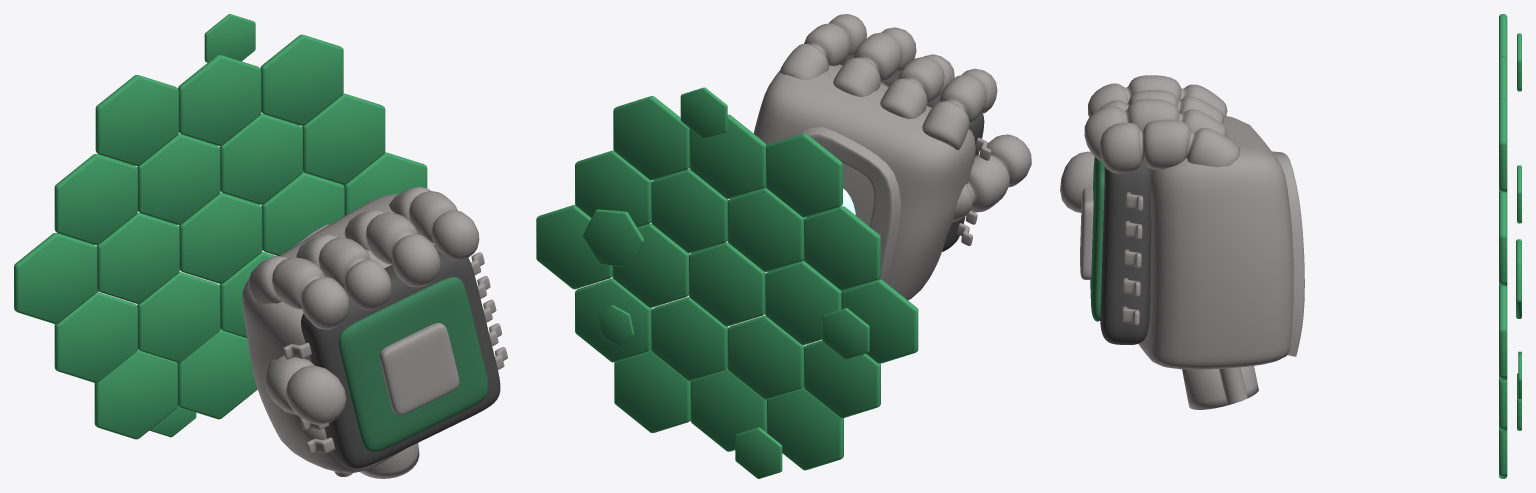
The picture shows the model from 3 angles, left to right: view 1: azimuth 30°, elevation 25°; view 2: azimuth 150°, elevation 25°; view 3: azimuth 270°, elevation 25°; orthographic projection. The views are drawn at different scales.
Visible parts, largest first — view 1: AI-robot-hand-hold-chip-col; view 2: AI-robot-hand-hold-chip-col; view 3: AI-robot-hand-hold-chip-col.
Boxes of the visible parts, <box> form: AI-robot-hand-hold-chip-col: <box>14,14,507,478</box>; AI-robot-hand-hold-chip-col: <box>536,14,1031,478</box>; AI-robot-hand-hold-chip-col: <box>1060,14,1521,478</box>.
Size of the model in its own units: 3.47 by 3.29 by 3.22.
